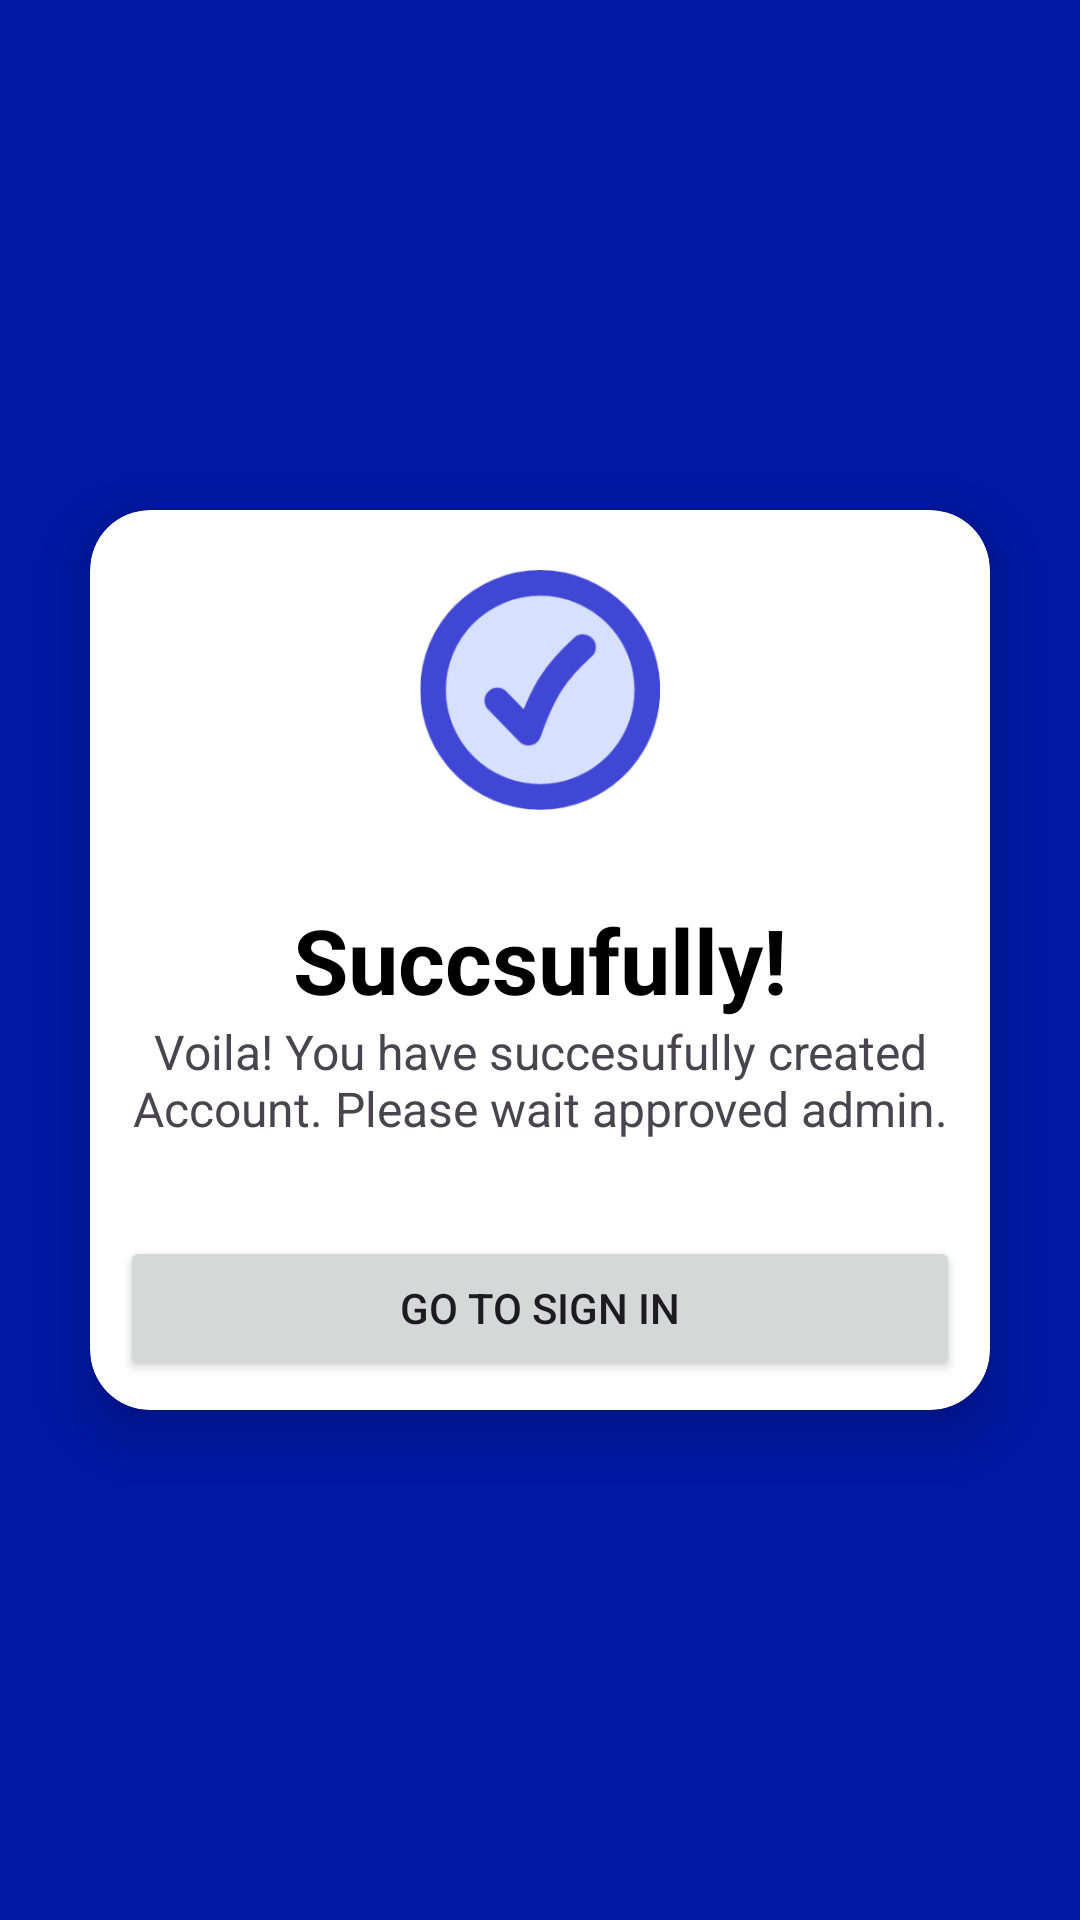

Point at icon controls on the screen. Image size 1080 x 1920, points as (x,y).
check: (540,690)
